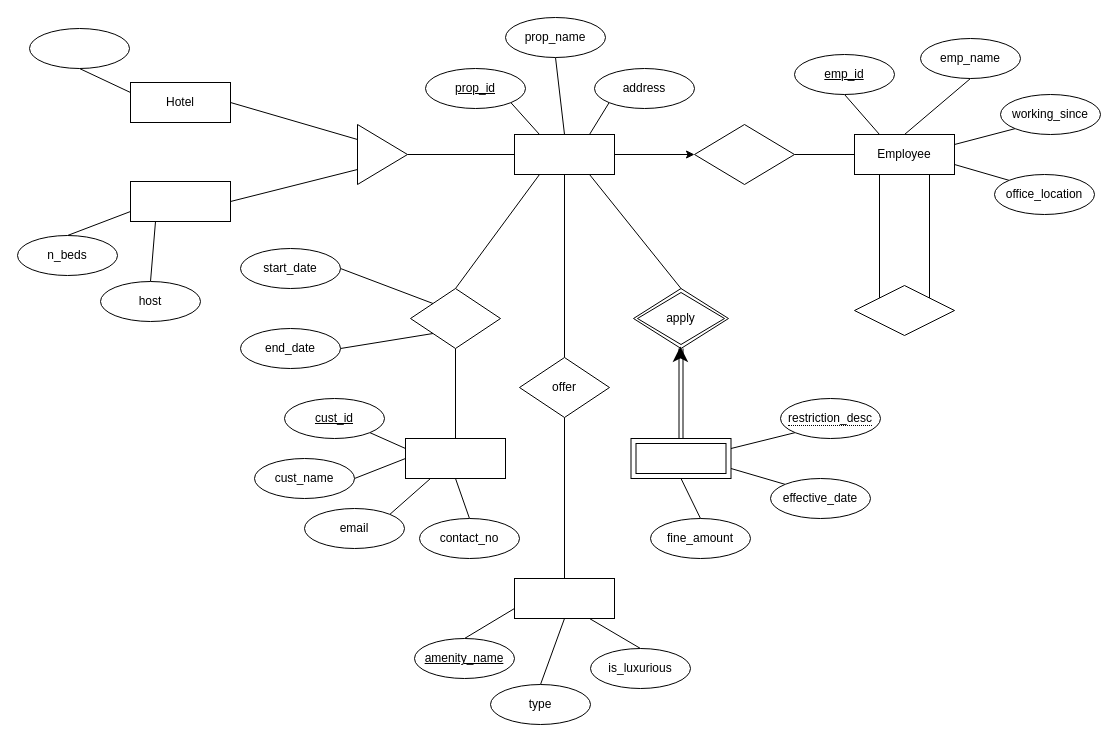
The diagram is 1118 pixels wide and 742 high, and some of its shapes have lost their labels. Each missing label, with the centre of its shape:
Amenity: point (564, 598)
book: point (455, 318)
Customer: point (455, 458)
Home: point (180, 201)
ISA: point (382, 154)
managed_by: point (744, 154)
n_rooms: point (79, 48)
Property: point (564, 154)
reports_to: point (904, 310)
Restriction: point (680, 458)
